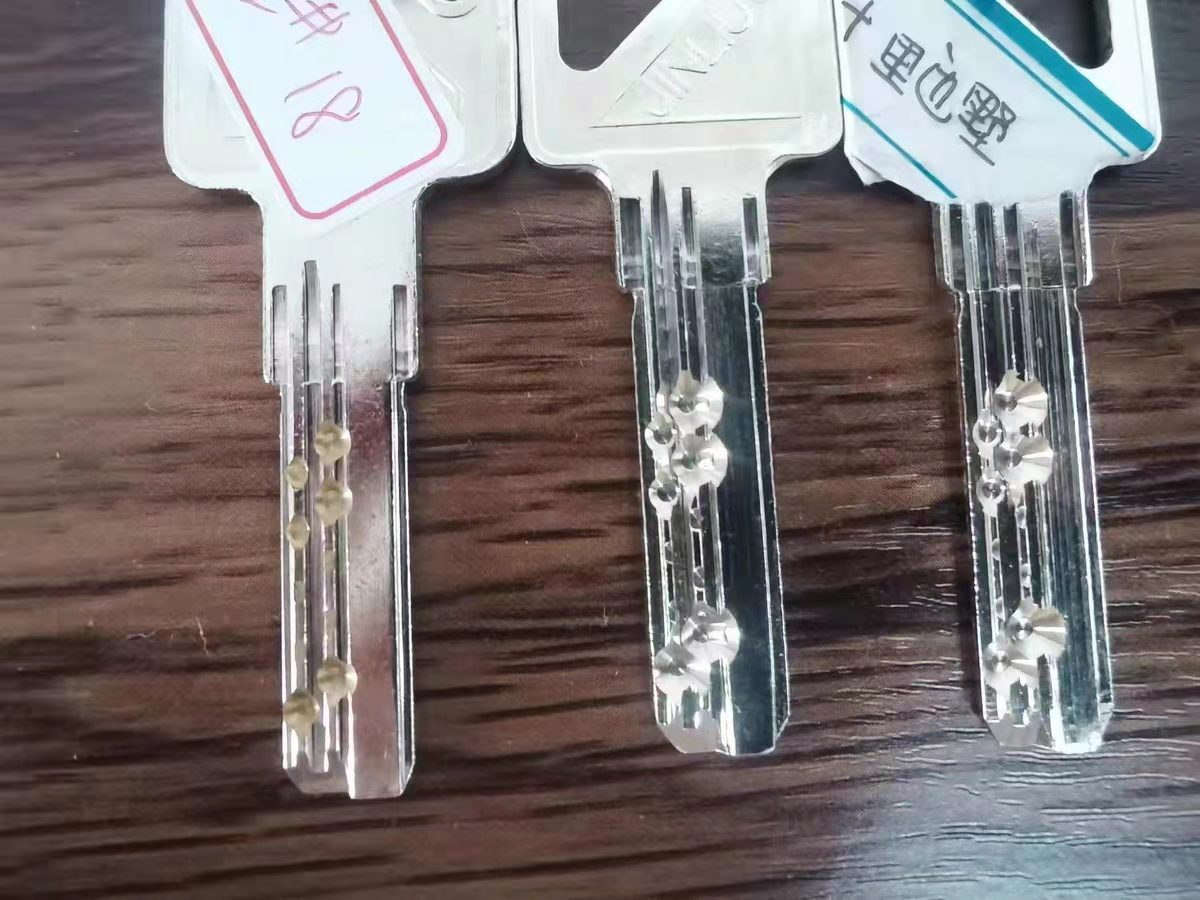key: (150, 0, 523, 815), (839, 2, 1180, 772), (513, 0, 841, 758)
